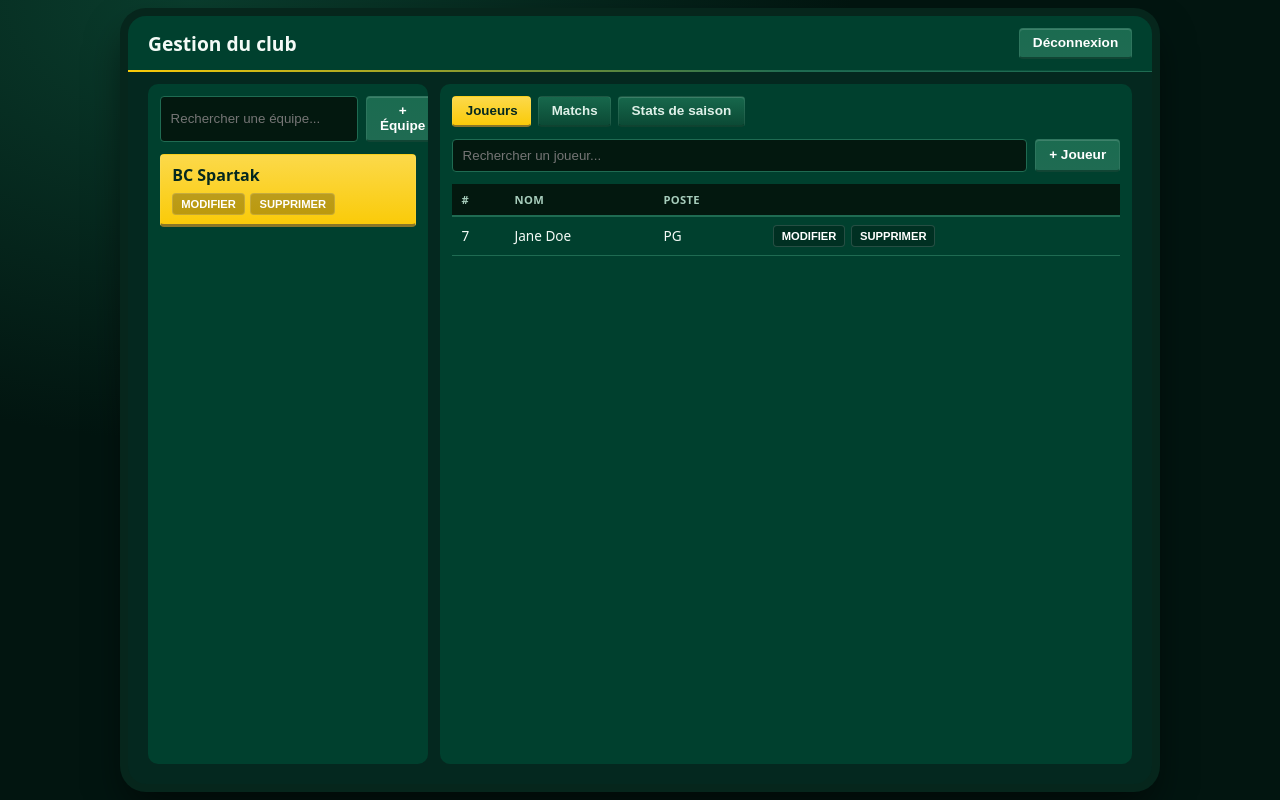
ManagementScreen › deletes a game on the server and wipes its local data
Expected: the text "BC Spartak" is shown, [172,164,260,186]
Click the button "Matchs": {"x": 575, "y": 111} [538,96,611,127]
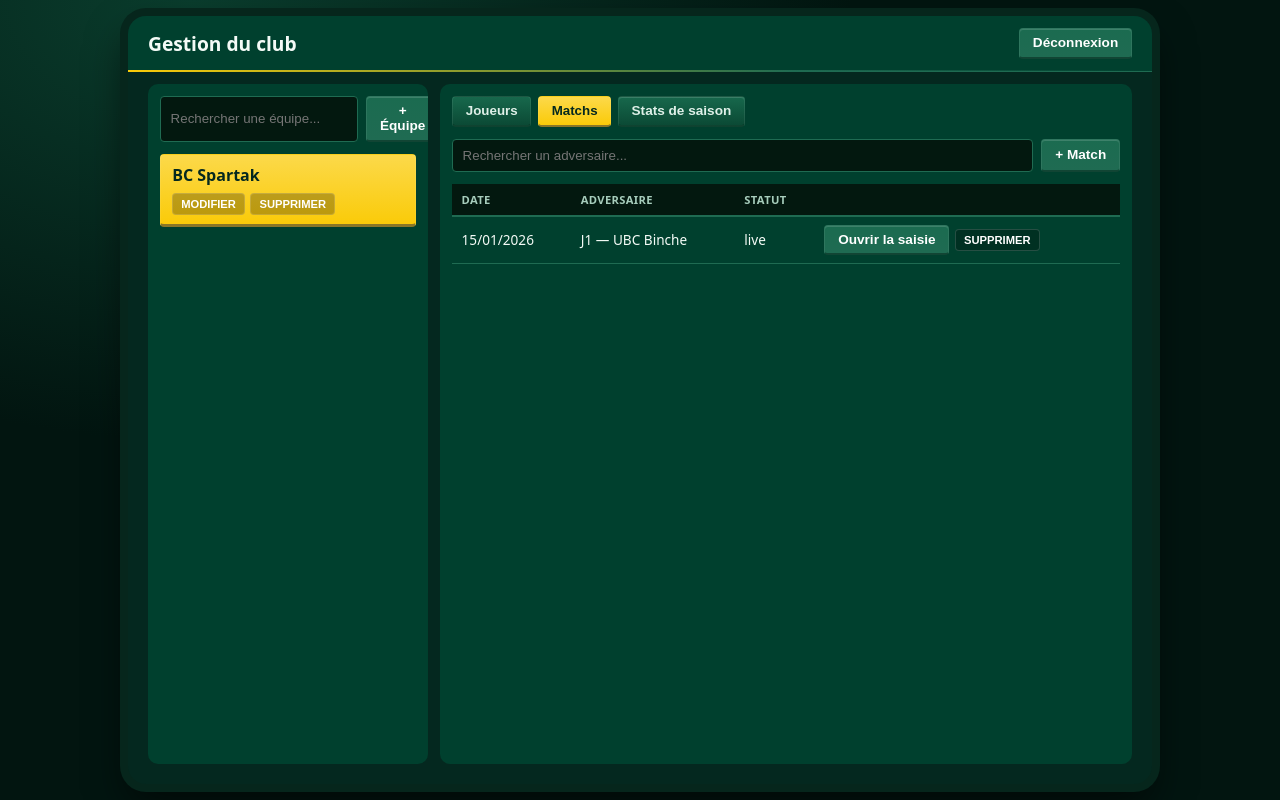
Click the button "Supprimer" in the row of "15/01/2026": {"x": 997, "y": 240} [955,229,1040,251]
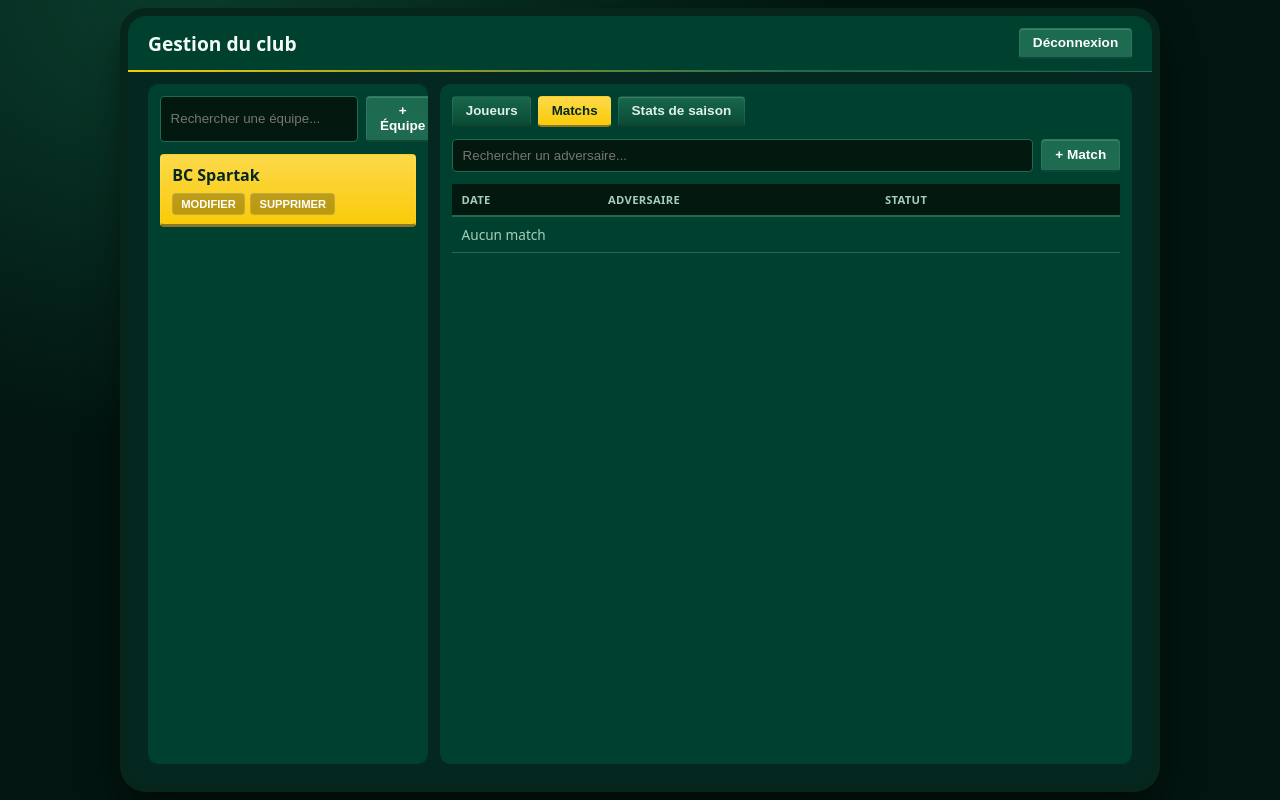
Now the text "Aucun match" is shown, box [452,216,1120,252]
